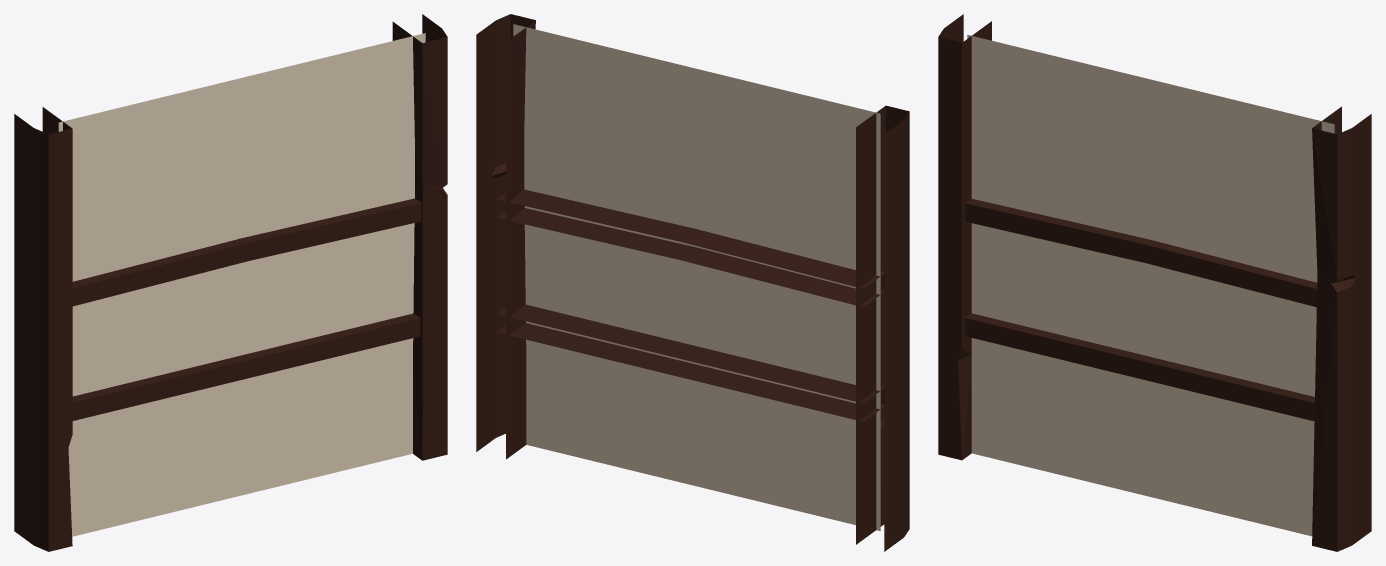
Rendered from BuildingWall_5_2  Asia.fbx.
3 renders of one model, left to right at view 1: azimuth 30°, elevation 25°; view 2: azimuth 150°, elevation 25°; view 3: azimuth 330°, elevation 25°, orthographic.
Parts seen in each view (by area): view 1: BuildingWall_5_2; view 2: BuildingWall_5_2; view 3: BuildingWall_5_2.
Part boxes in pixels (bbox=[...]): BuildingWall_5_2: bbox=[14, 14, 447, 551]; BuildingWall_5_2: bbox=[476, 14, 909, 551]; BuildingWall_5_2: bbox=[938, 14, 1371, 551].
Bounding box in the file's own units: 2 × 1.96 × 0.254.
